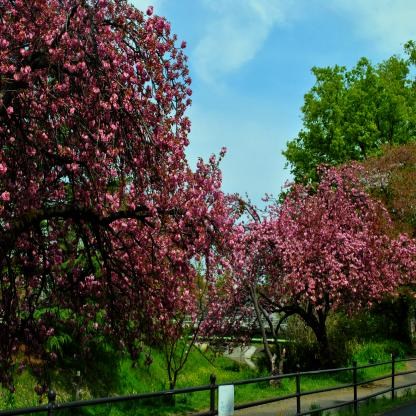YaeSakura: (0, 3, 228, 412), (255, 146, 416, 364), (207, 138, 292, 383)
